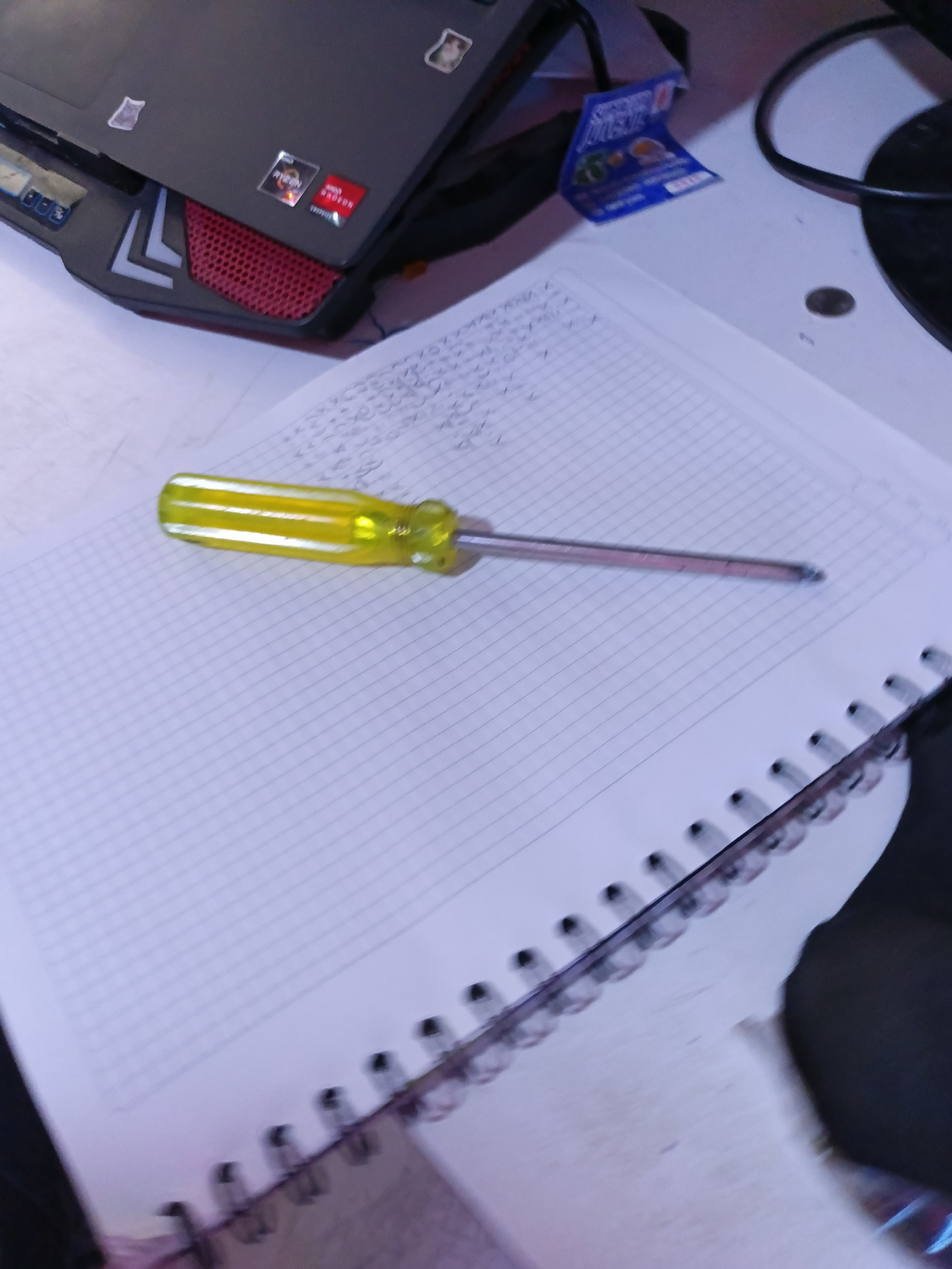Destornillador: (159, 473, 823, 583)
